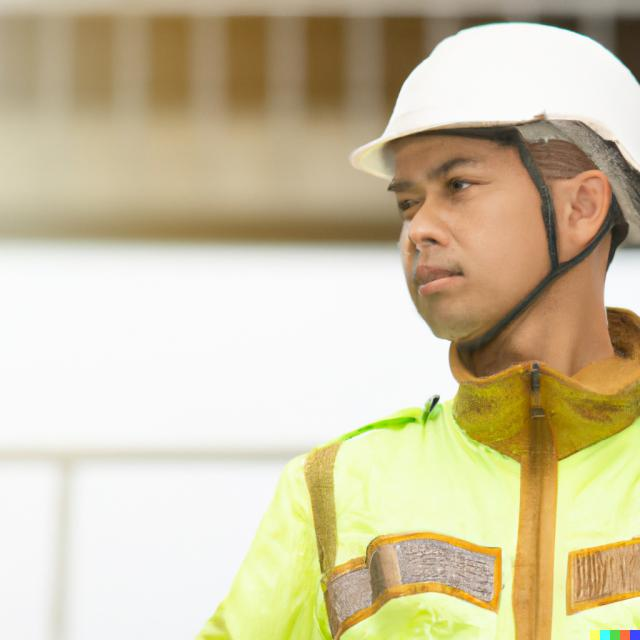Reflective-Jacket: (209, 366, 640, 640)
Safety-Helmet: (350, 18, 640, 183)
